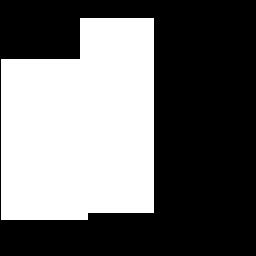person: (80, 18, 153, 212), (1, 59, 87, 219)
